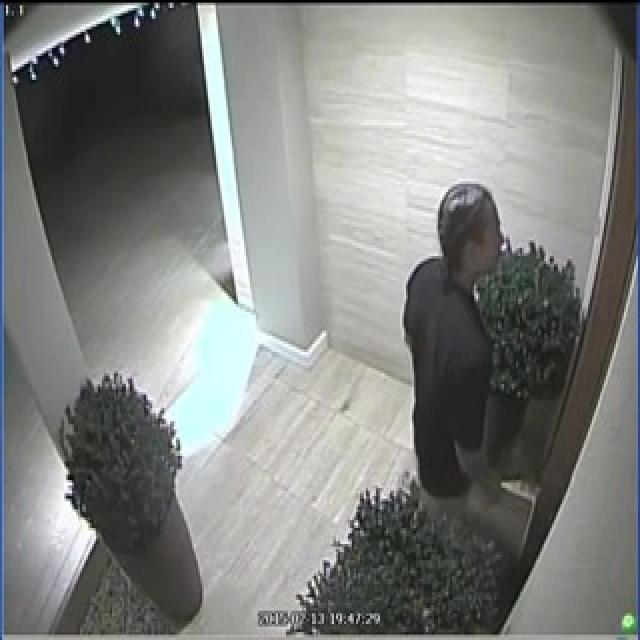thief: (386, 170, 524, 518)
